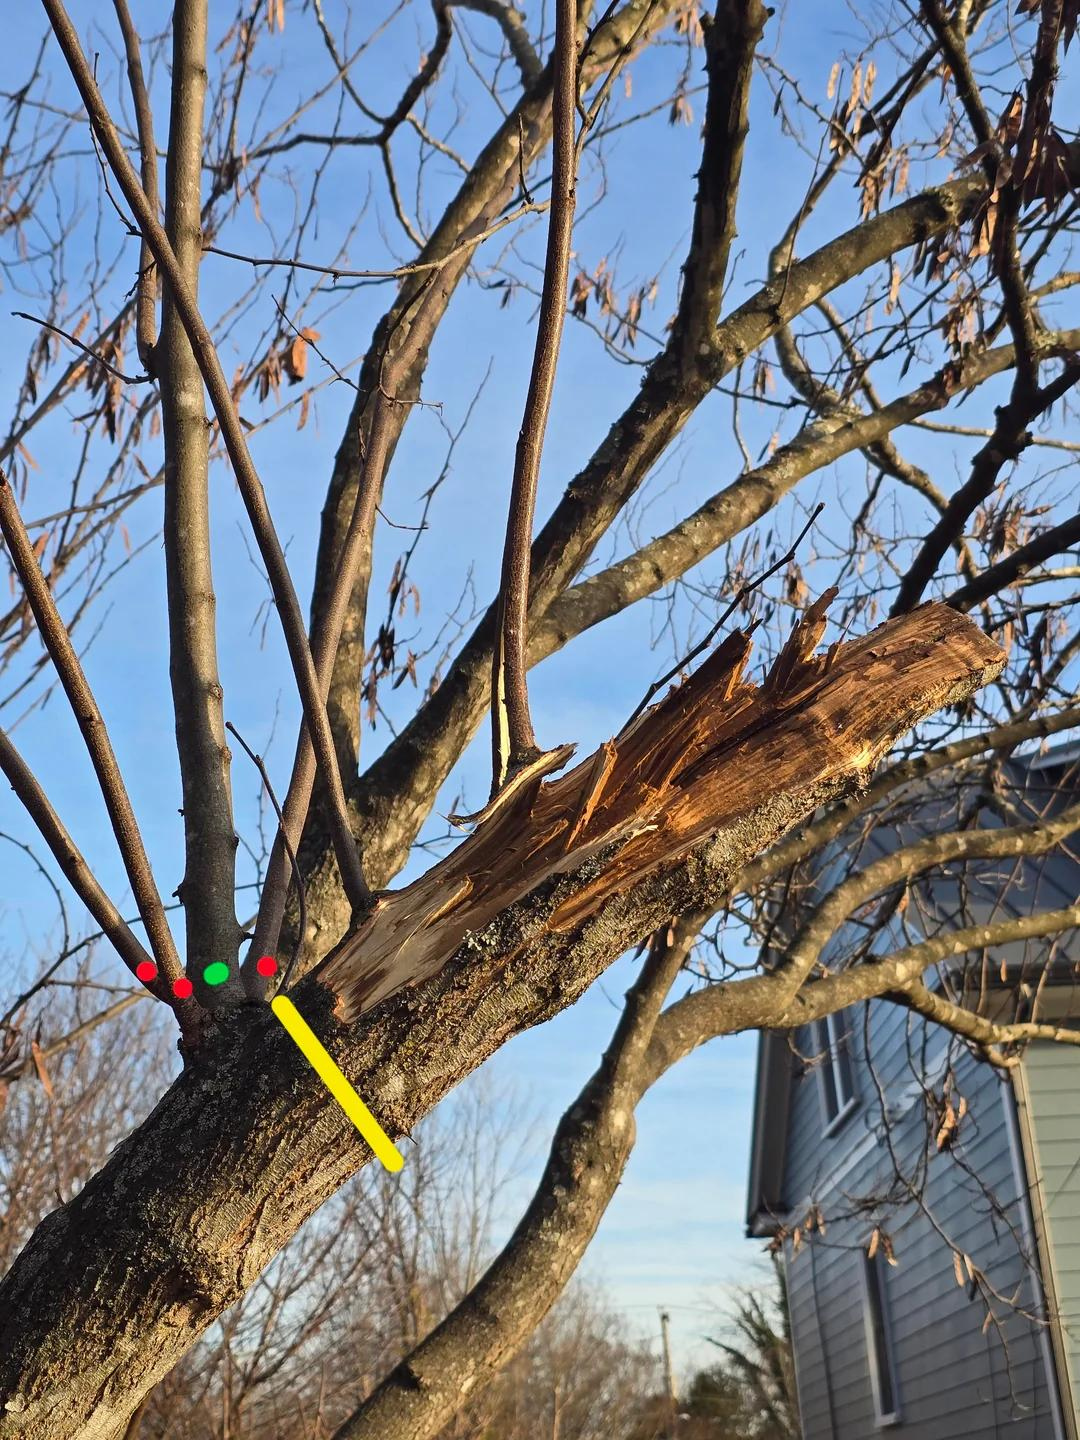mechanical damage: (315, 610, 1002, 1023)
